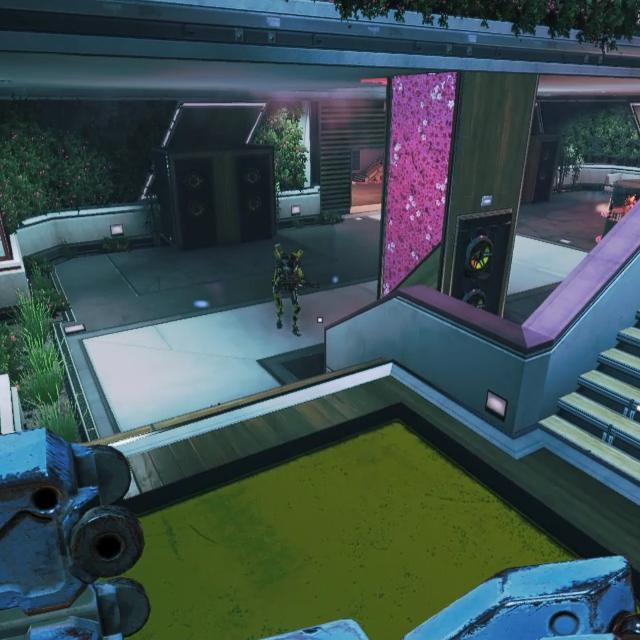avatar: (269, 243, 306, 338)
